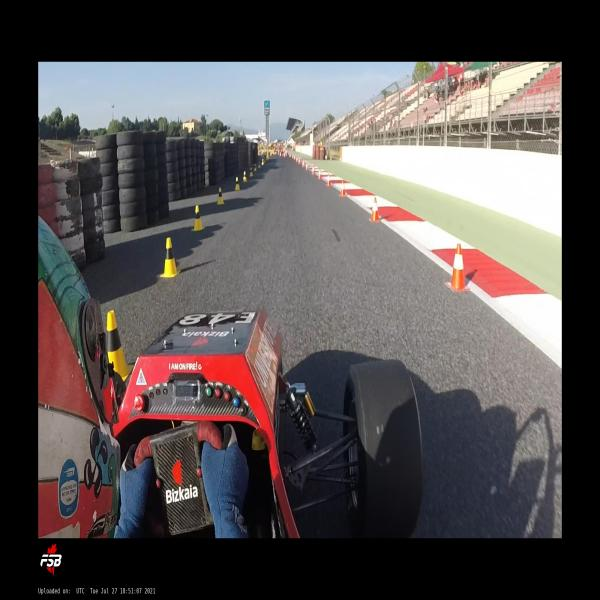orange_cone: (446, 243, 470, 291), (370, 197, 380, 222), (339, 180, 346, 196), (326, 173, 331, 186), (318, 169, 321, 179), (312, 166, 315, 175), (306, 164, 308, 169)
yellow_cone: (105, 310, 134, 382), (160, 237, 180, 277), (191, 204, 206, 231), (217, 186, 224, 204), (235, 176, 240, 191), (243, 170, 247, 183), (250, 167, 254, 176), (254, 162, 257, 172), (261, 158, 264, 166), (258, 160, 260, 168)
